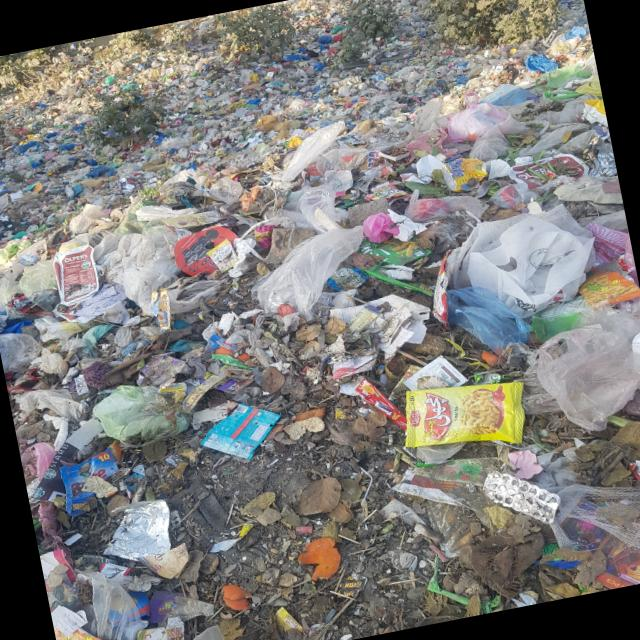electronic: (394, 368, 536, 466), (193, 394, 289, 470), (506, 142, 593, 204), (170, 221, 246, 281), (593, 499, 640, 590), (49, 242, 104, 308), (131, 613, 194, 640)
general: (454, 200, 608, 320), (518, 309, 640, 428), (248, 220, 381, 321), (74, 370, 196, 452)
